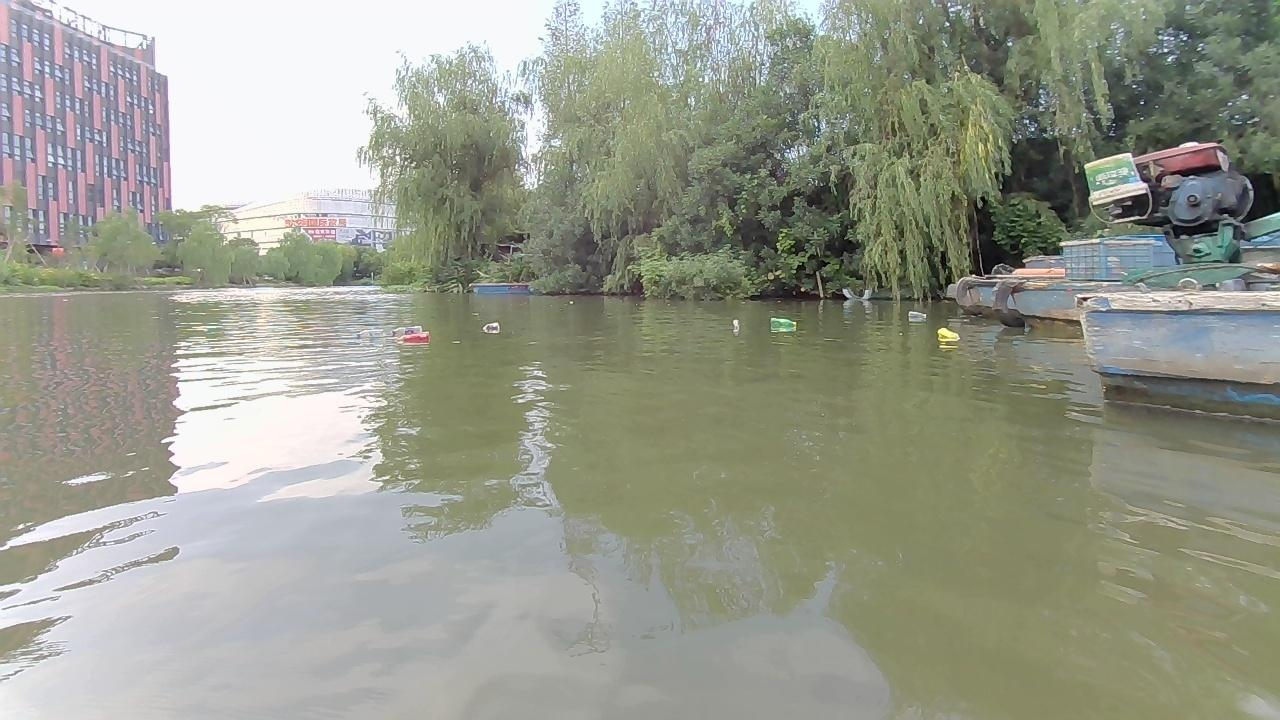bottle: (381, 319, 426, 336), (386, 329, 433, 345), (766, 312, 797, 333), (934, 323, 959, 346), (357, 330, 393, 343), (906, 307, 926, 326), (481, 322, 503, 336), (727, 320, 739, 332)
